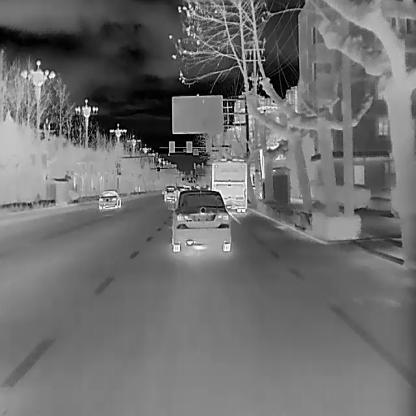car: (167, 188, 231, 251), (211, 157, 247, 212), (98, 188, 121, 208), (163, 185, 177, 201)
